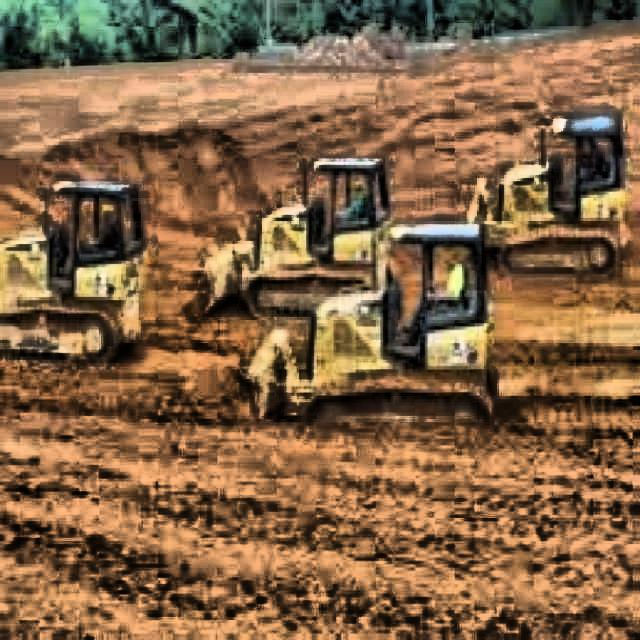bull_dozer/loader/grader: (236, 219, 495, 428), (199, 153, 398, 323), (0, 180, 149, 369), (463, 110, 629, 272)
person: (427, 250, 466, 306), (576, 136, 612, 186), (82, 204, 119, 250), (336, 178, 372, 220)
